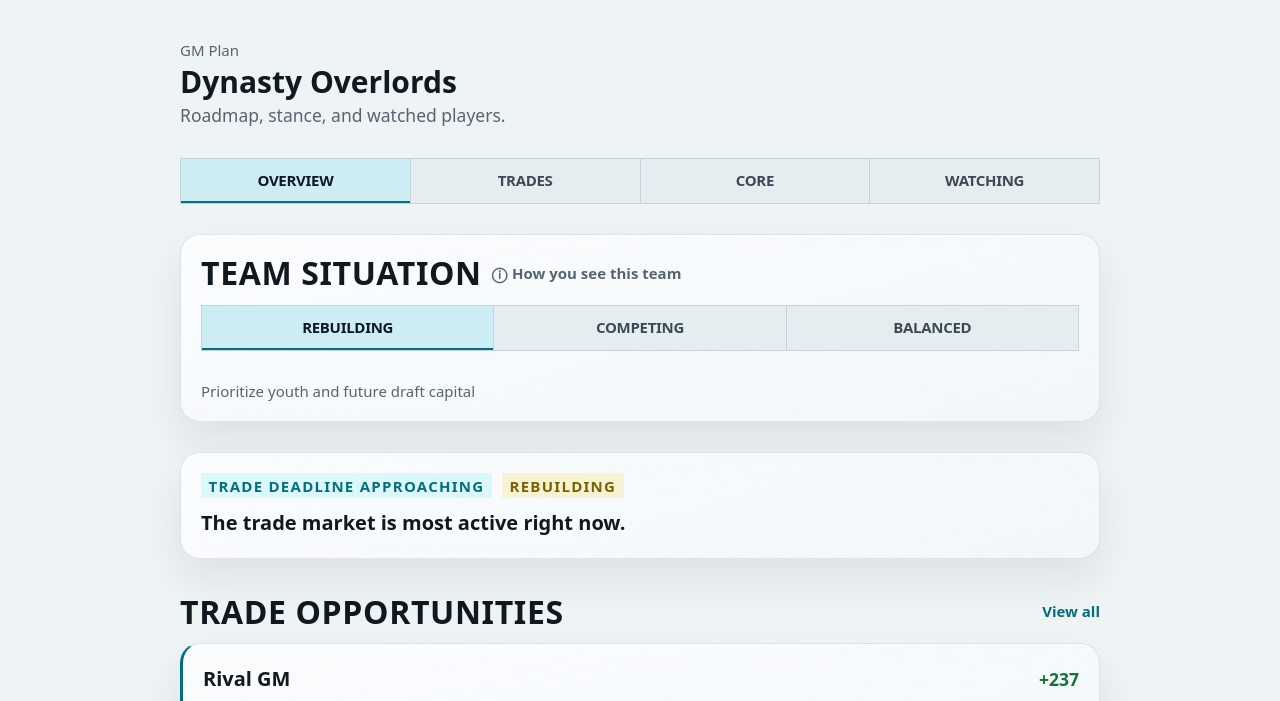
Test: GmPlanContent concept structure › switches between the four tabs
This screenshot has width=1280, height=701.
Check: the tab "Overview" is shown, box [181,159,410,203]
Click the tab "Trades": (525, 181) [410,159,640,203]
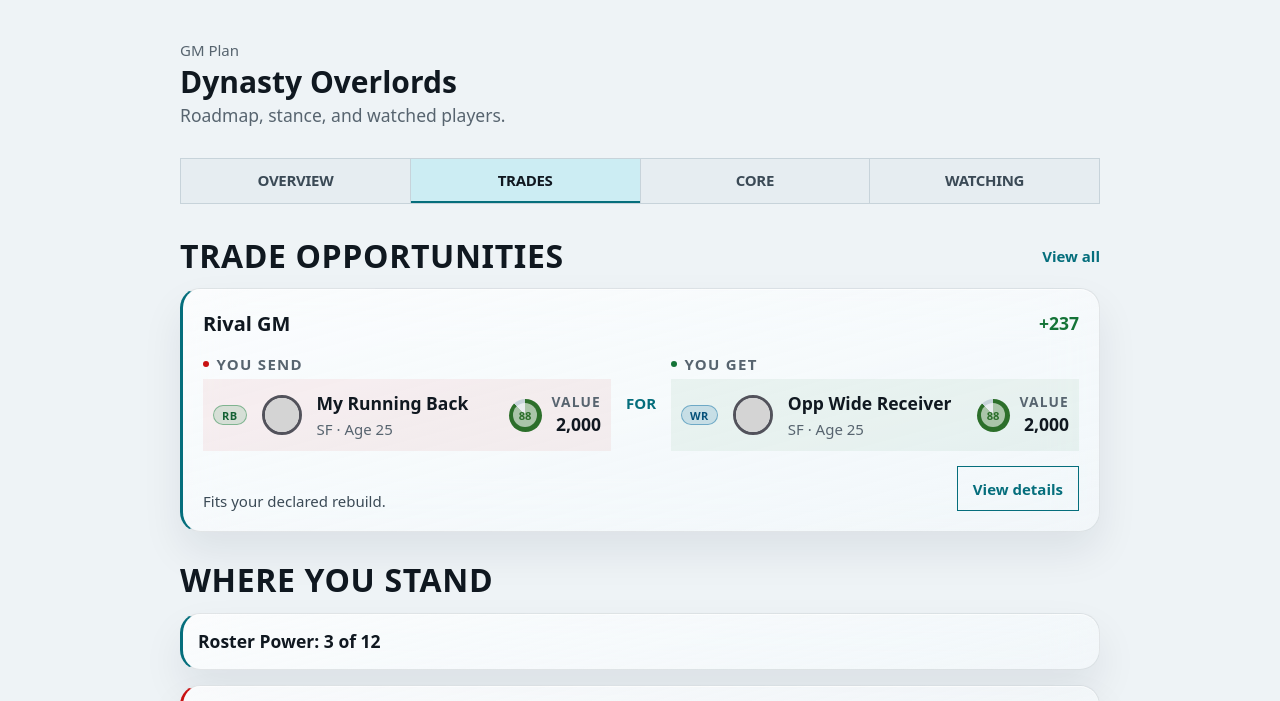
Click the tab "Core": (754, 181) [640,159,869,203]
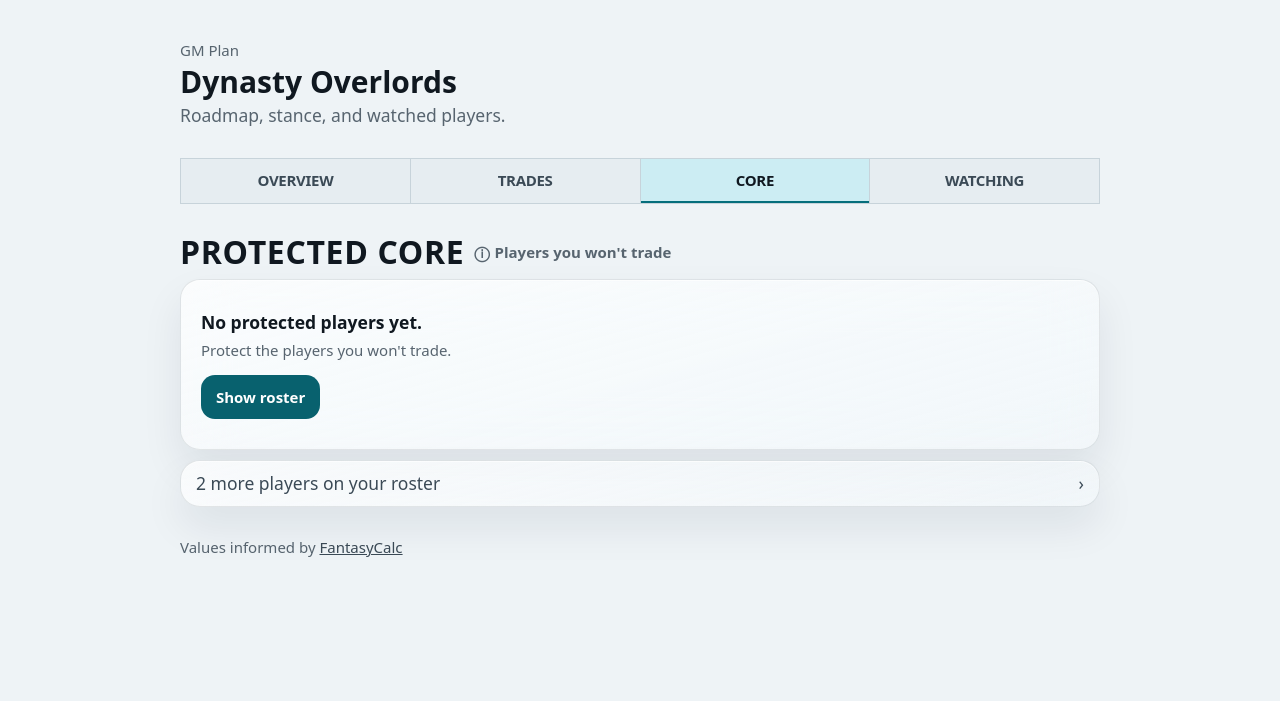
Click the tab "Watching": (984, 181) [869,159,1099,203]
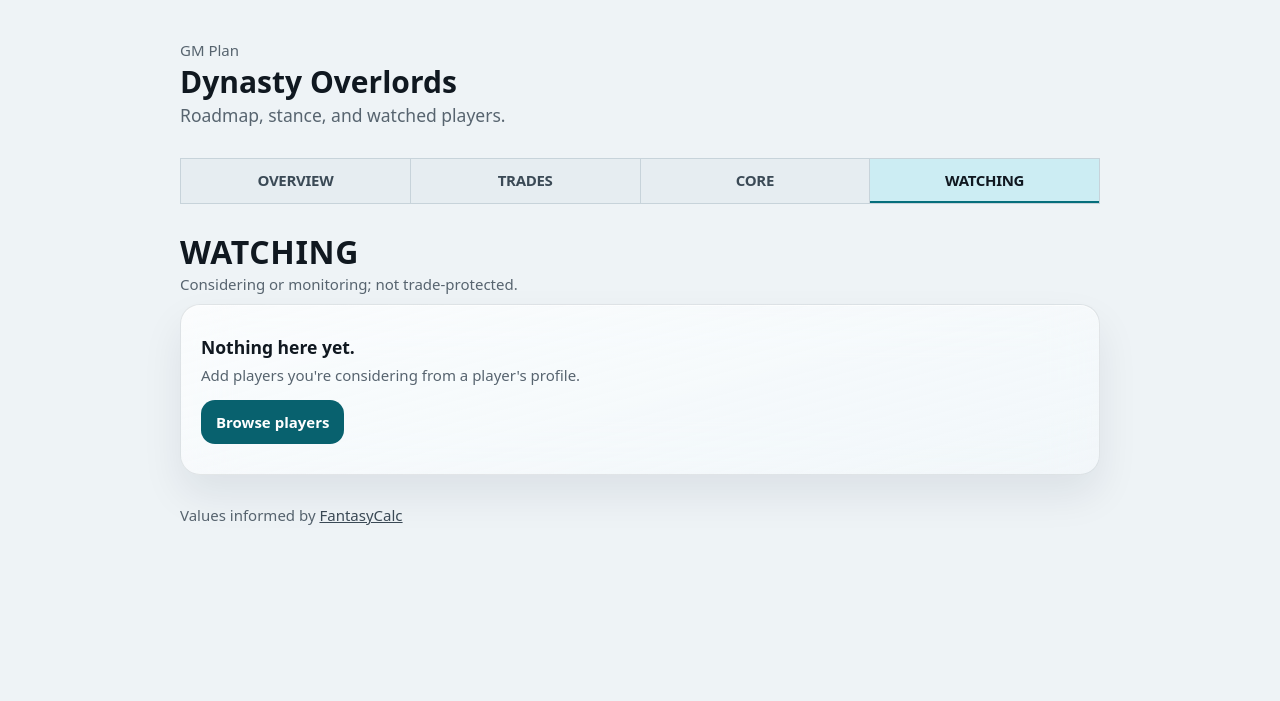
Check: the heading "Watching" is shown, box [180,230,359,273]
